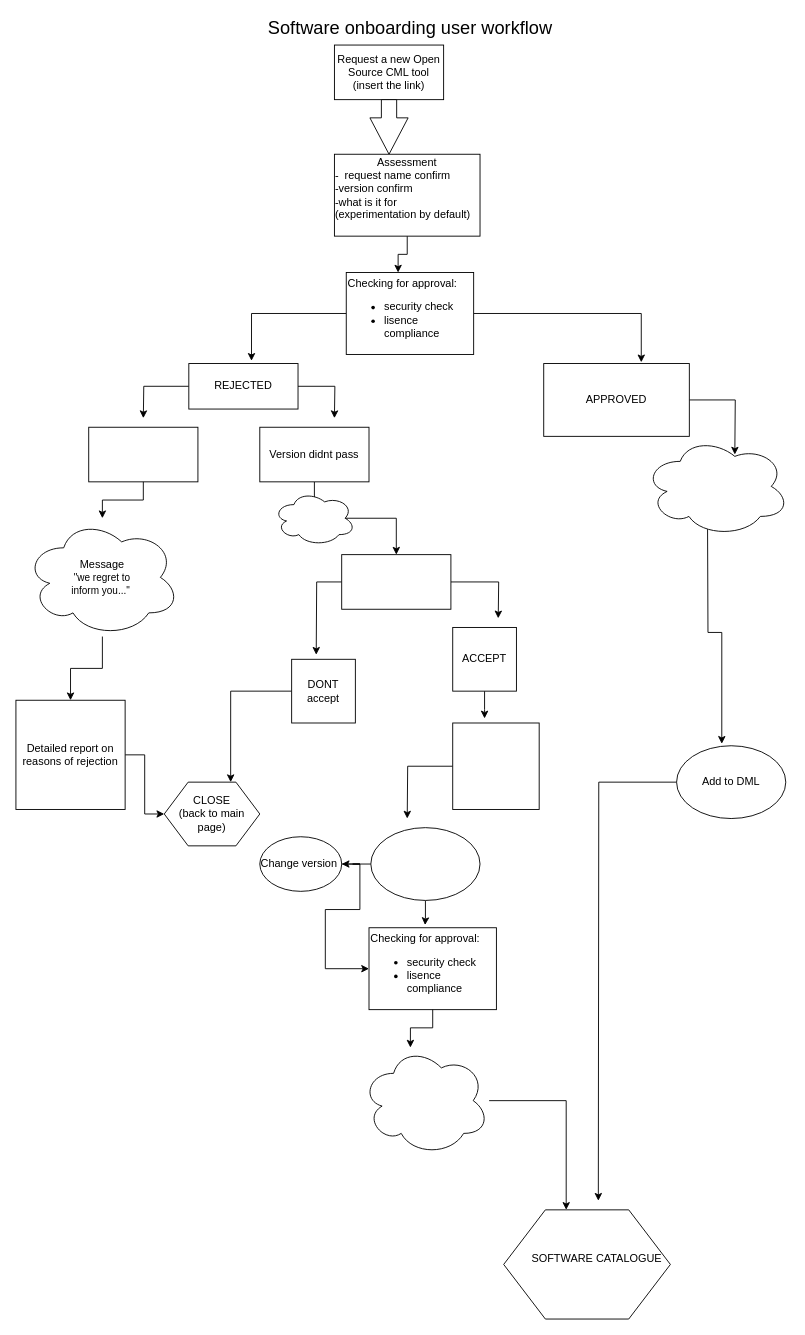
The diagram is 805 pixels wide and 1335 high, and some of its shapes have lost their labels. The centre of each missing label's shape, as x and y in pixels:
Back to assessment page with prefilled suggested version: pixel 495 765
CONFIRM: pixel 425 863
Message: pixel 314 518
Message "Software approved": pixel 425 1100
Message "Software doesnt exist in DML": pixel 716 485
Software didnt pass approval: pixel 143 454
Suggest another version: pixel 396 581
